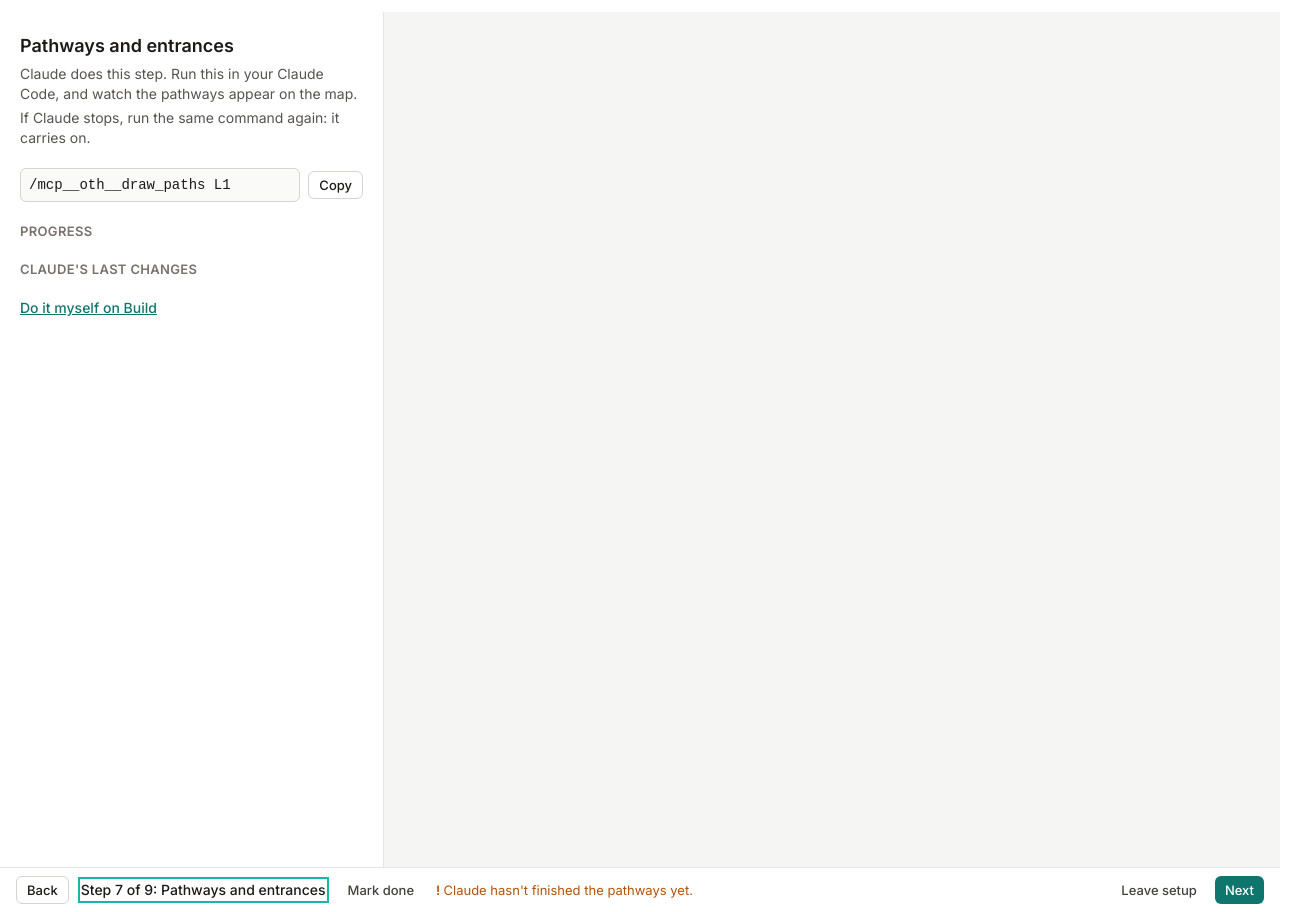
Test: SetupWizard › gives Check one main button, Looks right: Next is plain there
Click the button "Next": point(1239, 890) [1215,876,1264,904]
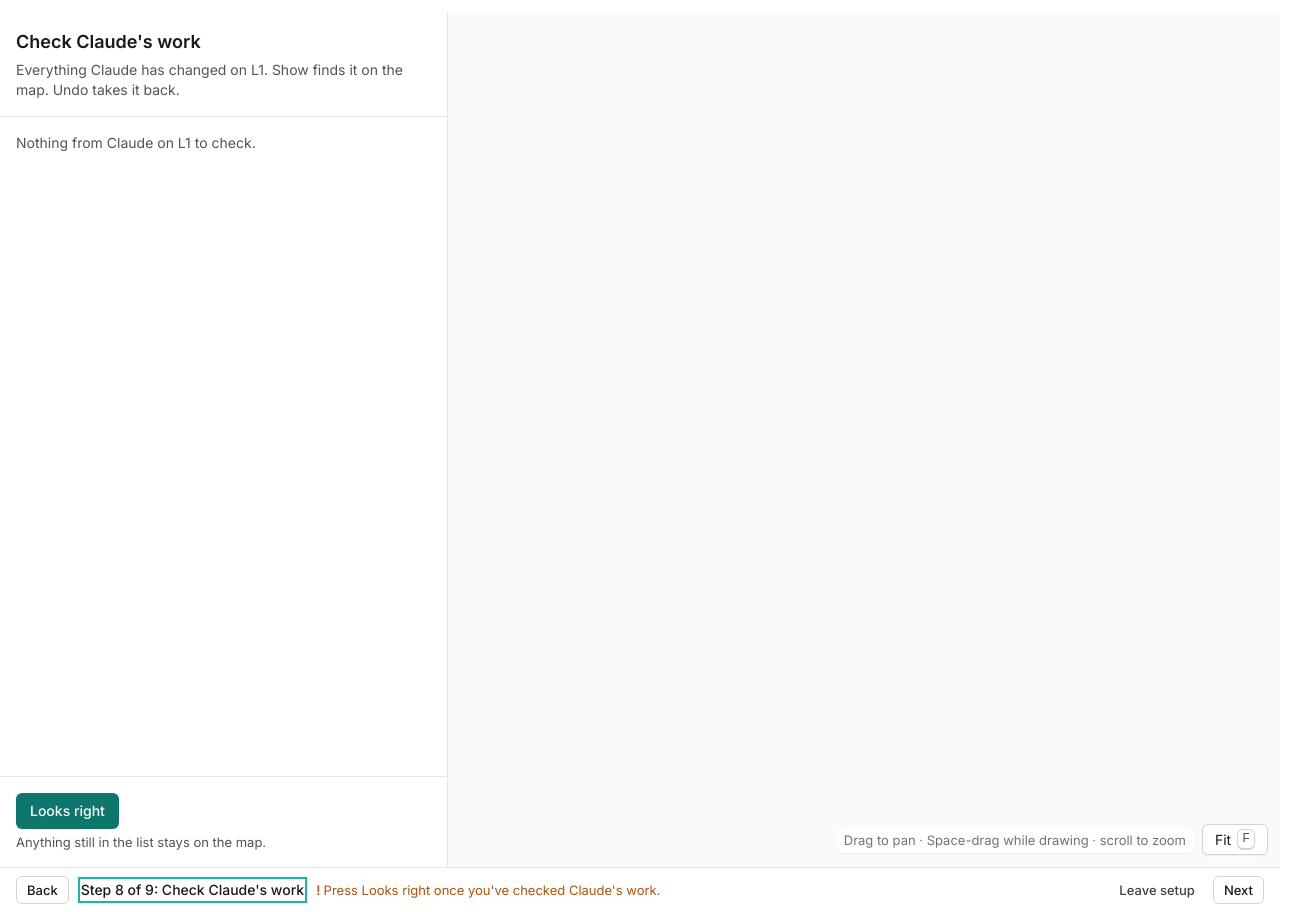
Expected: the button "Looks right" is shown, [16,793,119,829]
